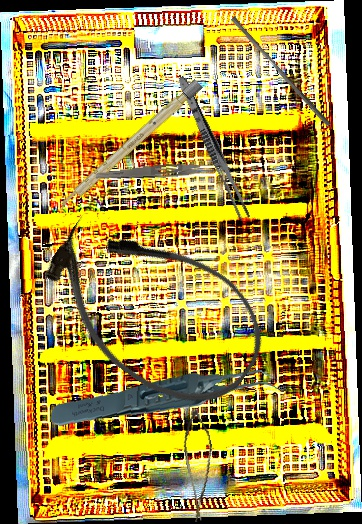Cannula: (22, 189, 286, 430)
Dressing Forceps: (173, 74, 254, 222), (95, 159, 226, 185)
Micro Scissor: (171, 408, 228, 523)
Pusher: (227, 15, 335, 128)
Scalpel Handle: (56, 78, 203, 214)
Tissue Forceps: (49, 356, 286, 443)
